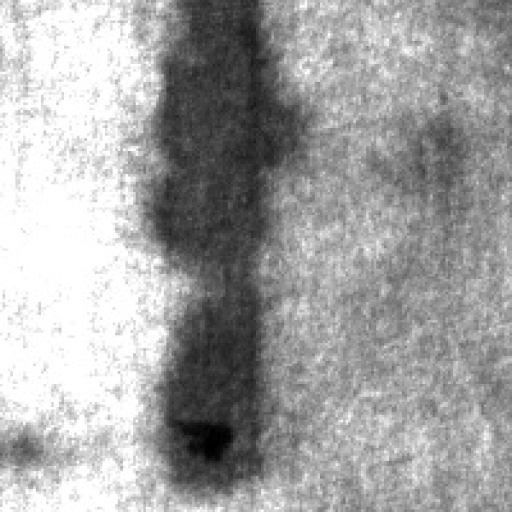patches: (113, 3, 322, 498)
